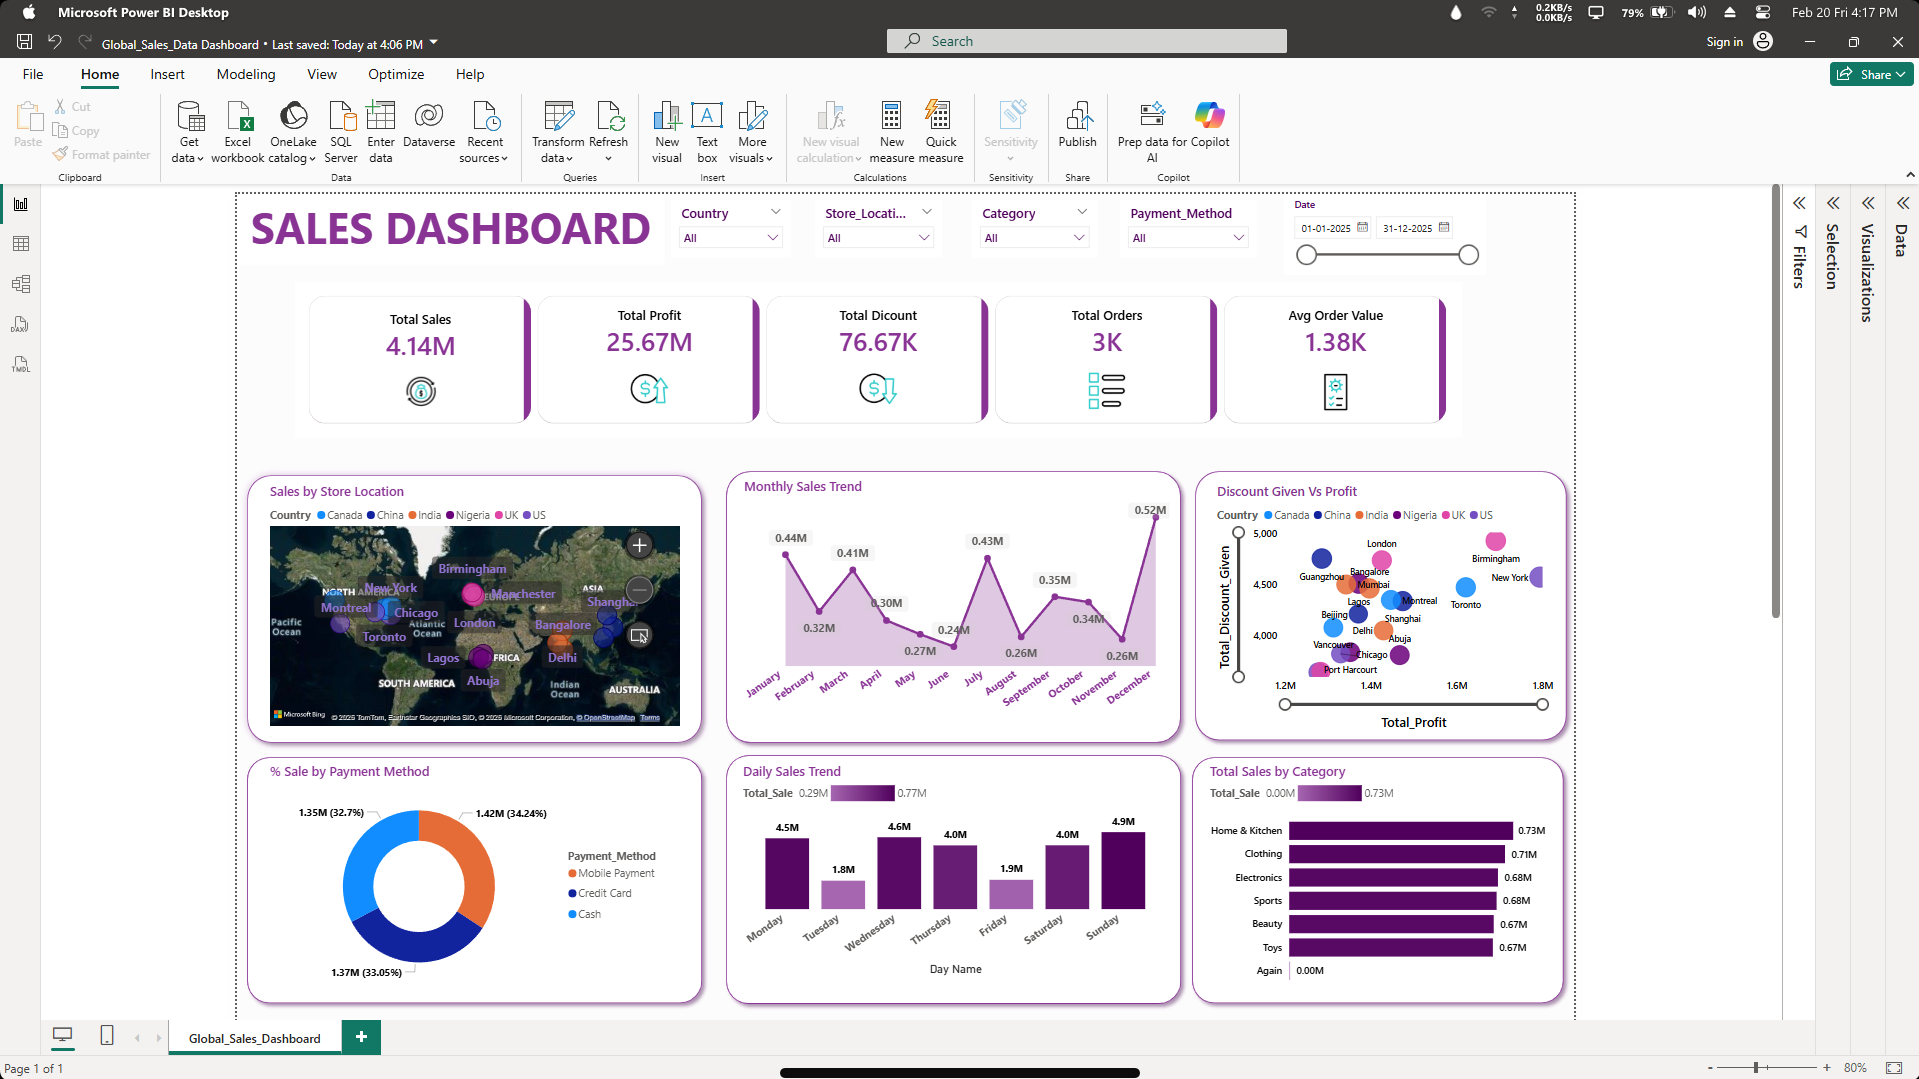

Layout of this report page (visuals, bound fields, positions):
{"tool":"powerbi","page":{"name":"Global_Sales_Dashboard","canvas":[1671,2000],"ordinal":0},"visuals":[{"type":"cardVisual","fields":{"Data":["Global_Sales_Data.Total_Sale","Global_Sales_Data.Total_Profit","Global_Sales_Data.Total_Discount_Given","Global_Sales_Data.Total_Order","Global_Sales_Data.Average_Order_value"]},"box":[72.2,110,1458.9,194.4],"z":0},{"type":"textbox","box":[0,0,534.4,88.9],"z":1000},{"type":"shape","box":[3.8,342.5,586.2,352.5],"z":2000},{"type":"slicer","fields":{"Values":["Global_Sales_Data.Country"]},"box":[542.2,7.8,150,72.2],"z":3000},{"type":"slicer","fields":{"Values":["Global_Sales_Data.Store_Location"]},"box":[722.2,7.8,158.9,72.2],"z":4000},{"type":"slicer","fields":{"Values":["Global_Sales_Data.Category"]},"box":[918.9,7.8,156.7,72.2],"z":5000},{"type":"slicer","fields":{"Values":["Global_Sales_Data.Payment_Method"]},"box":[1103.3,7.8,171.1,72.2],"z":6000},{"type":"slicer","fields":{"Values":["Global_Sales_Data.Date"]},"box":[1308.9,0,252.2,101.1],"z":7000},{"type":"map","title":"Sales by Store Location","fields":{"Category":["Global_Sales_Data.Store_Location"],"Size":["Global_Sales_Data.Total_Sale"],"Series":["Global_Sales_Data.Country"]},"box":[36.7,360,521.7,310],"z":8000},{"type":"shape","box":[602.5,337.5,586.2,357.5],"z":9000},{"type":"areaChart","title":"Monthly Sales Trend","fields":{"Category":["Global_Sales_Data.Month Name"],"Y":["Global_Sales_Data.Total_Sale"]},"box":[628.3,353.3,541.7,308.3],"z":10000},{"type":"shape","box":[3.3,695.6,586.7,325.6],"z":11000},{"type":"shape","box":[602.2,692.2,586.7,328.9],"z":12000},{"type":"columnChart","title":"Daily Sales Trend","fields":{"Y":["Global_Sales_Data.Total_Profit"],"Category":["Global_Sales_Data.Day Name"]},"box":[627.8,710,542.2,272.2],"z":13000},{"type":"donutChart","title":"% Sale by Payment Method","fields":{"Category":["Global_Sales_Data.Payment_Method"],"Y":["Global_Sales_Data.Total_Sale"]},"box":[36.7,710,508.3,290],"z":14000},{"type":"shape","box":[1188.9,337.8,482.2,354.4],"z":15000},{"type":"scatterChart","title":"Discount Given Vs Profit","fields":{"X":["Global_Sales_Data.Total_Profit"],"Y":["Global_Sales_Data.Total_Discount_Given"],"Category":["Global_Sales_Data.Store_Location"],"Series":["Global_Sales_Data.Country"],"Size":["Global_Sales_Data.Total_Order"]},"box":[1220,360,430,310],"z":16000},{"type":"shape","box":[1184.4,695.6,482.2,325.6],"z":17000},{"type":"barChart","title":"Total Sales by Category","fields":{"Category":["Global_Sales_Data.Category"],"Y":["Global_Sales_Data.Total_Sale"]},"box":[1211.1,710,428.9,290],"z":18000}]}

Visuals, with their boxes on the page's 1671x2000 design canvas (x1, y1, x2, y2). These are canvas units, not pixel positions in the 1919x1079 screenshot, which may show the page scaled, cropped or inside an application window:
cardVisual - Global_Sales_Data.Total_Sale x Global_Sales_Data.Total_Profit: [x1=72, y1=110, x2=1531, y2=304]
textbox: [x1=0, y1=0, x2=534, y2=89]
shape: [x1=4, y1=342, x2=590, y2=695]
slicer - Global_Sales_Data.Country: [x1=542, y1=8, x2=692, y2=80]
slicer - Global_Sales_Data.Store_Location: [x1=722, y1=8, x2=881, y2=80]
slicer - Global_Sales_Data.Category: [x1=919, y1=8, x2=1076, y2=80]
slicer - Global_Sales_Data.Payment_Method: [x1=1103, y1=8, x2=1274, y2=80]
slicer - Global_Sales_Data.Date: [x1=1309, y1=0, x2=1561, y2=101]
"Sales by Store Location" map: [x1=37, y1=360, x2=558, y2=670]
shape: [x1=602, y1=338, x2=1189, y2=695]
"Monthly Sales Trend" areaChart: [x1=628, y1=353, x2=1170, y2=662]
shape: [x1=3, y1=696, x2=590, y2=1021]
shape: [x1=602, y1=692, x2=1189, y2=1021]
"Daily Sales Trend" columnChart: [x1=628, y1=710, x2=1170, y2=982]
"% Sale by Payment Method" donutChart: [x1=37, y1=710, x2=545, y2=1000]
shape: [x1=1189, y1=338, x2=1671, y2=692]
"Discount Given Vs Profit" scatterChart: [x1=1220, y1=360, x2=1650, y2=670]
shape: [x1=1184, y1=696, x2=1667, y2=1021]
"Total Sales by Category" barChart: [x1=1211, y1=710, x2=1640, y2=1000]
